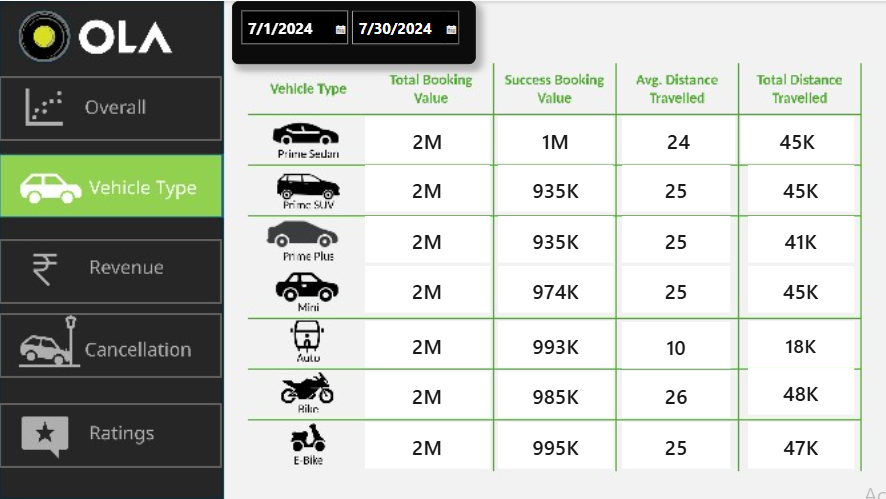

The page's visual inventory and layout, read from the dashboard file:
{"tool":"powerbi","page":{"name":"Vehicle type","canvas":[1280,720],"ordinal":1},"visuals":[{"type":"actionButton","box":[0,108,321.1,93.6],"z":0},{"type":"actionButton","box":[0,449.3,321.1,93.6],"z":1000},{"type":"actionButton","box":[0,342.7,321.1,93.6],"z":2000},{"type":"actionButton","box":[0,578.9,321.1,93.6],"z":3000},{"type":"cardVisual","fields":{"Data":["Sum(July.Booking_Value)"]},"box":[527.5,166.3,180,67],"z":4000},{"type":"cardVisual","fields":{"Data":["Sum(July.Booking_Value)"]},"box":[527.5,236.9,179.7,67.2],"z":5000},{"type":"cardVisual","fields":{"Data":["Sum(July.Booking_Value)"]},"box":[527.5,309.1,179.7,67.2],"z":6000},{"type":"cardVisual","fields":{"Data":["Sum(July.Booking_Value)"]},"box":[527.5,460.3,179.7,67.2],"z":7000},{"type":"cardVisual","fields":{"Data":["Sum(July.Booking_Value)"]},"box":[527.5,381.3,179.7,67.2],"z":8000},{"type":"cardVisual","fields":{"Data":["Sum(July.Booking_Value)"]},"box":[527.5,532.5,179.7,67.2],"z":9000},{"type":"cardVisual","fields":{"Data":["Sum(July.Booking_Value)"]},"box":[527.5,606.4,179.7,67.2],"z":10000},{"type":"cardVisual","fields":{"Data":["Sum(July.Booking_Value)"]},"box":[719,166.3,166.3,67.2],"z":11000},{"type":"cardVisual","fields":{"Data":["Sum(July.Booking_Value)"]},"box":[719,309.1,166.3,67.2],"z":12000},{"type":"cardVisual","fields":{"Data":["Sum(July.Booking_Value)"]},"box":[719,236.9,166.3,67.2],"z":13000},{"type":"cardVisual","fields":{"Data":["Sum(July.Booking_Value)"]},"box":[719,381.3,166.3,67.2],"z":14000},{"type":"cardVisual","fields":{"Data":["Sum(July.Booking_Value)"]},"box":[719,460.3,166.3,67.2],"z":15000},{"type":"cardVisual","fields":{"Data":["Sum(July.Booking_Value)"]},"box":[719,532.5,166.3,67.2],"z":16000},{"type":"cardVisual","fields":{"Data":["Sum(July.Booking_Value)"]},"box":[719,606.4,166.3,67.2],"z":17000},{"type":"cardVisual","fields":{"Data":["Avg(July.Ride_Distance)"]},"box":[897,166.3,163,68],"z":18000},{"type":"cardVisual","fields":{"Data":["Avg(July.Ride_Distance)"]},"box":[897,236.9,156.2,67.2],"z":19000},{"type":"cardVisual","fields":{"Data":["Sum(July.Ride_Distance)"]},"box":[1078.4,236.9,152.9,67.2],"z":20000},{"type":"cardVisual","fields":{"Data":["Avg(July.Ride_Distance)"]},"box":[897,309.1,156.2,67.2],"z":21000},{"type":"cardVisual","fields":{"Data":["Sum(July.Ride_Distance)"]},"box":[1078.4,309.1,152.9,67.2],"z":22000},{"type":"cardVisual","fields":{"Data":["Avg(July.Ride_Distance)"]},"box":[897,381.3,156.2,67.2],"z":23000},{"type":"cardVisual","fields":{"Data":["Sum(July.Ride_Distance)"]},"box":[1078.4,381.3,152.9,67.2],"z":24000},{"type":"cardVisual","fields":{"Data":["Avg(July.Ride_Distance)"]},"box":[897,461.9,156.2,67.2],"z":25000},{"type":"cardVisual","fields":{"Data":["Sum(July.Ride_Distance)"]},"box":[1078.4,460.3,152.9,67.2],"z":26000},{"type":"cardVisual","fields":{"Data":["Avg(July.Ride_Distance)"]},"box":[897,532.5,156.2,67.2],"z":27000},{"type":"cardVisual","fields":{"Data":["Sum(July.Ride_Distance)"]},"box":[1078.4,529.1,152.9,67.2],"z":28000},{"type":"cardVisual","fields":{"Data":["Avg(July.Ride_Distance)"]},"box":[897,606.4,156.2,67.2],"z":29000},{"type":"cardVisual","fields":{"Data":["Sum(July.Ride_Distance)"]},"box":[1078.4,606.4,152.9,67.2],"z":30000},{"type":"cardVisual","fields":{"Data":["Sum(July.Ride_Distance)"]},"box":[1068.3,166.3,162.9,67.2],"z":31000},{"type":"slicer","title":"Date","fields":{"Values":["July.Date"]},"box":[336,0,351.1,90.7],"z":32000}]}

Visuals, with their boxes on the page's 1280x720 design canvas (x1, y1, x2, y2). These are canvas units, not pixel positions in the 886x499 screenshot, which may show the page scaled, cropped or inside an application window:
actionButton: crop(0, 108, 321, 202)
actionButton: crop(0, 449, 321, 543)
actionButton: crop(0, 343, 321, 436)
actionButton: crop(0, 579, 321, 672)
cardVisual - Sum(July.Booking_Value): crop(528, 166, 708, 233)
cardVisual - Sum(July.Booking_Value): crop(528, 237, 707, 304)
cardVisual - Sum(July.Booking_Value): crop(528, 309, 707, 376)
cardVisual - Sum(July.Booking_Value): crop(528, 460, 707, 528)
cardVisual - Sum(July.Booking_Value): crop(528, 381, 707, 448)
cardVisual - Sum(July.Booking_Value): crop(528, 532, 707, 600)
cardVisual - Sum(July.Booking_Value): crop(528, 606, 707, 674)
cardVisual - Sum(July.Booking_Value): crop(719, 166, 885, 234)
cardVisual - Sum(July.Booking_Value): crop(719, 309, 885, 376)
cardVisual - Sum(July.Booking_Value): crop(719, 237, 885, 304)
cardVisual - Sum(July.Booking_Value): crop(719, 381, 885, 448)
cardVisual - Sum(July.Booking_Value): crop(719, 460, 885, 528)
cardVisual - Sum(July.Booking_Value): crop(719, 532, 885, 600)
cardVisual - Sum(July.Booking_Value): crop(719, 606, 885, 674)
cardVisual - Avg(July.Ride_Distance): crop(897, 166, 1060, 234)
cardVisual - Avg(July.Ride_Distance): crop(897, 237, 1053, 304)
cardVisual - Sum(July.Ride_Distance): crop(1078, 237, 1231, 304)
cardVisual - Avg(July.Ride_Distance): crop(897, 309, 1053, 376)
cardVisual - Sum(July.Ride_Distance): crop(1078, 309, 1231, 376)
cardVisual - Avg(July.Ride_Distance): crop(897, 381, 1053, 448)
cardVisual - Sum(July.Ride_Distance): crop(1078, 381, 1231, 448)
cardVisual - Avg(July.Ride_Distance): crop(897, 462, 1053, 529)
cardVisual - Sum(July.Ride_Distance): crop(1078, 460, 1231, 528)
cardVisual - Avg(July.Ride_Distance): crop(897, 532, 1053, 600)
cardVisual - Sum(July.Ride_Distance): crop(1078, 529, 1231, 596)
cardVisual - Avg(July.Ride_Distance): crop(897, 606, 1053, 674)
cardVisual - Sum(July.Ride_Distance): crop(1078, 606, 1231, 674)
cardVisual - Sum(July.Ride_Distance): crop(1068, 166, 1231, 234)
"Date" slicer: crop(336, 0, 687, 91)
